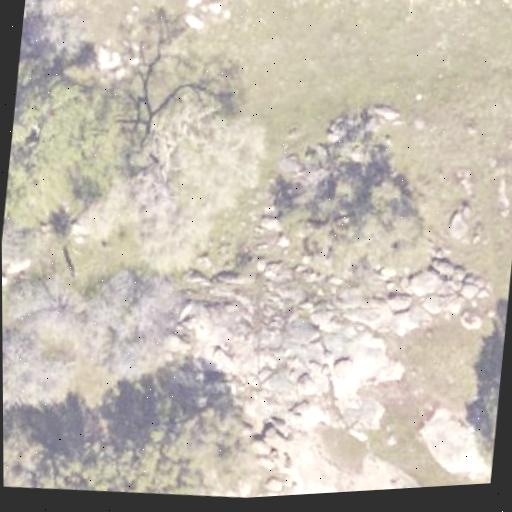tree-top: (111, 86, 280, 278), (2, 257, 196, 413), (281, 151, 461, 300), (1, 71, 123, 249), (121, 372, 281, 505), (3, 392, 137, 499), (460, 372, 501, 479), (20, 0, 99, 55)
